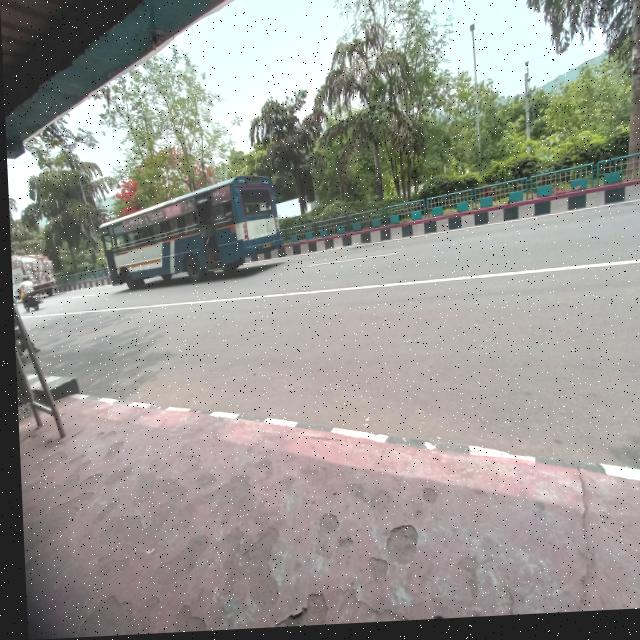bike: (17, 288, 40, 318)
bus: (87, 172, 295, 294)
